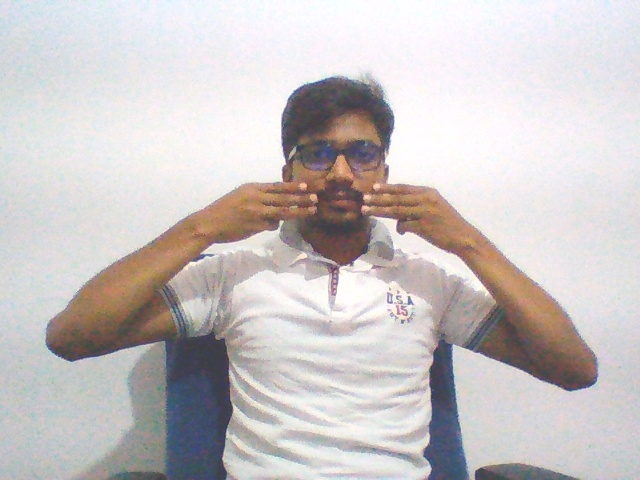cat: (187, 177, 479, 256)
